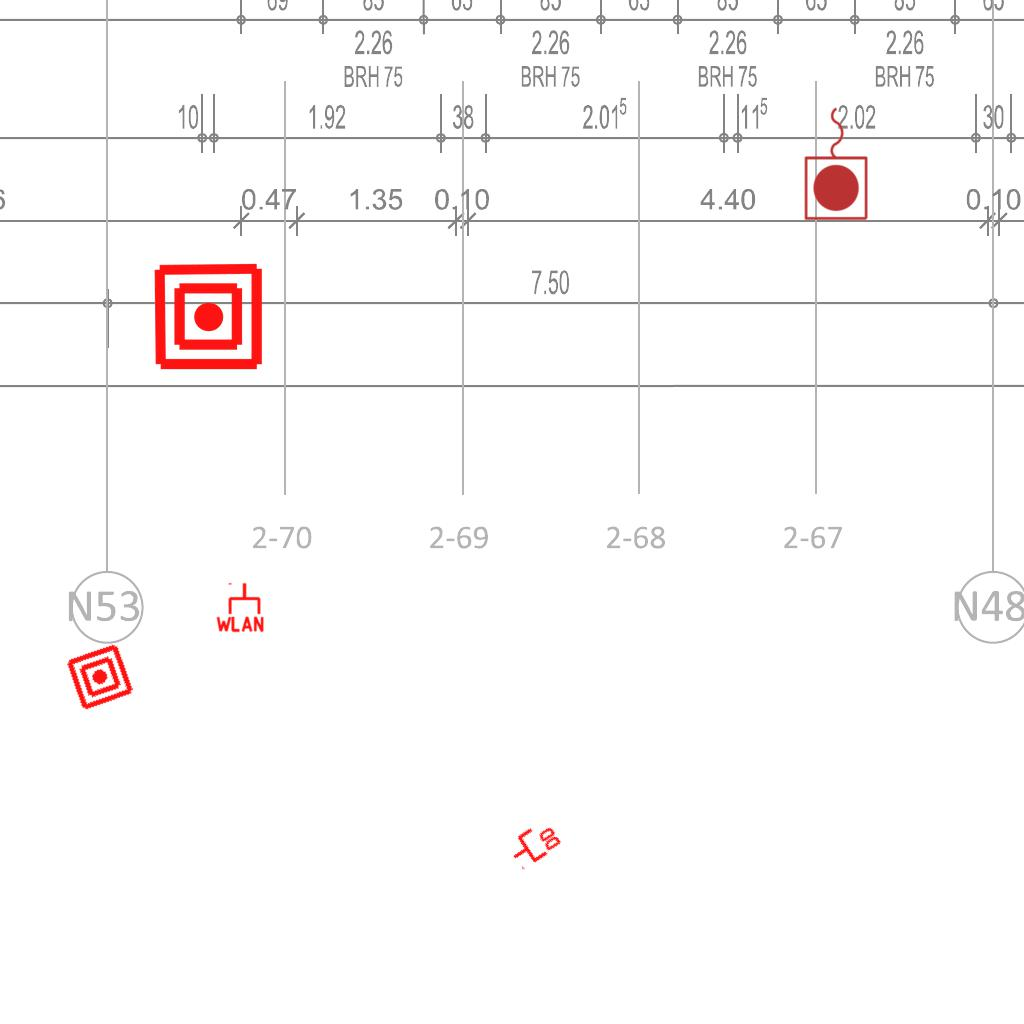Datenanschluss_zweifach: (503, 815, 565, 872)
NAM-Nichtautomatischer_Melder: (152, 260, 265, 373), (64, 641, 136, 713)
WLAN: (214, 581, 266, 633)
Zugtaster: (801, 102, 873, 224)
